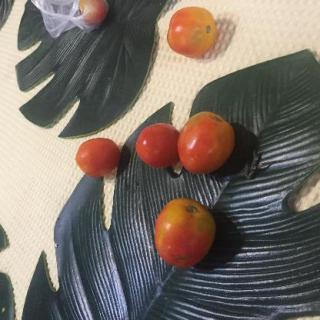Tomat: (140, 194, 226, 273), (173, 108, 238, 183), (160, 6, 227, 67), (132, 119, 185, 172), (75, 138, 119, 182)
